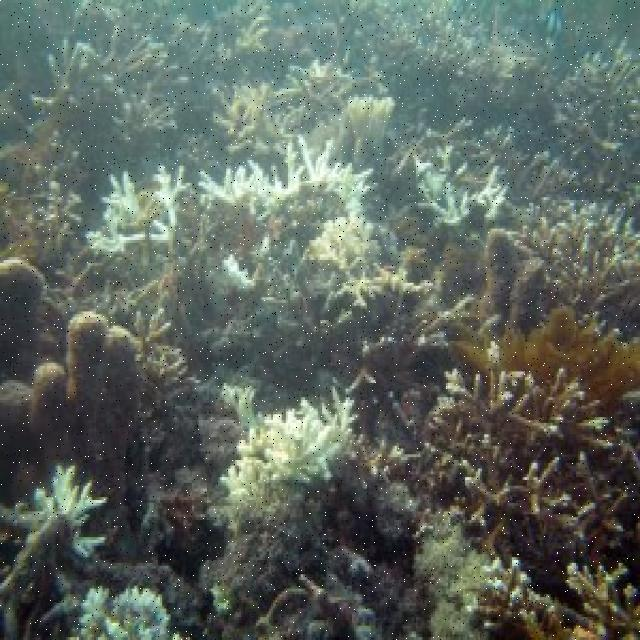Bleached: (1, 468, 98, 633), (233, 404, 352, 504), (211, 143, 371, 203), (421, 522, 504, 637), (91, 171, 169, 250), (312, 217, 394, 290), (421, 164, 504, 220), (87, 594, 182, 640), (342, 95, 397, 143), (43, 173, 82, 227), (222, 384, 262, 424)
Healthy: (436, 314, 640, 530), (182, 525, 421, 640), (1, 270, 149, 455), (506, 537, 640, 640), (149, 261, 205, 455), (446, 241, 543, 315), (1, 108, 41, 263)
